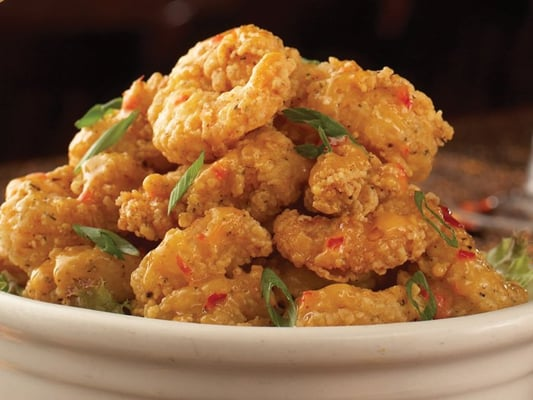sushi: (0, 0, 531, 383)
